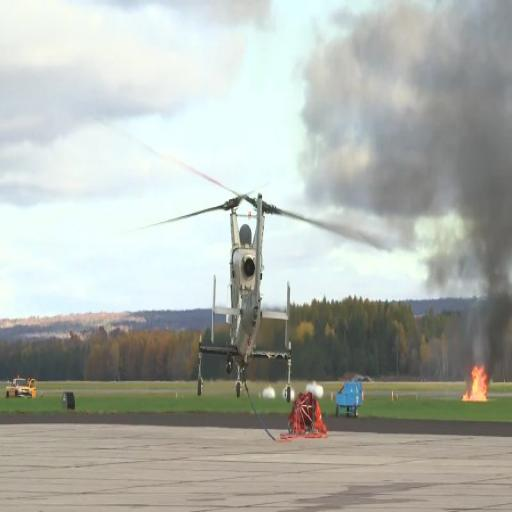helicopter: (174, 171, 312, 402)
